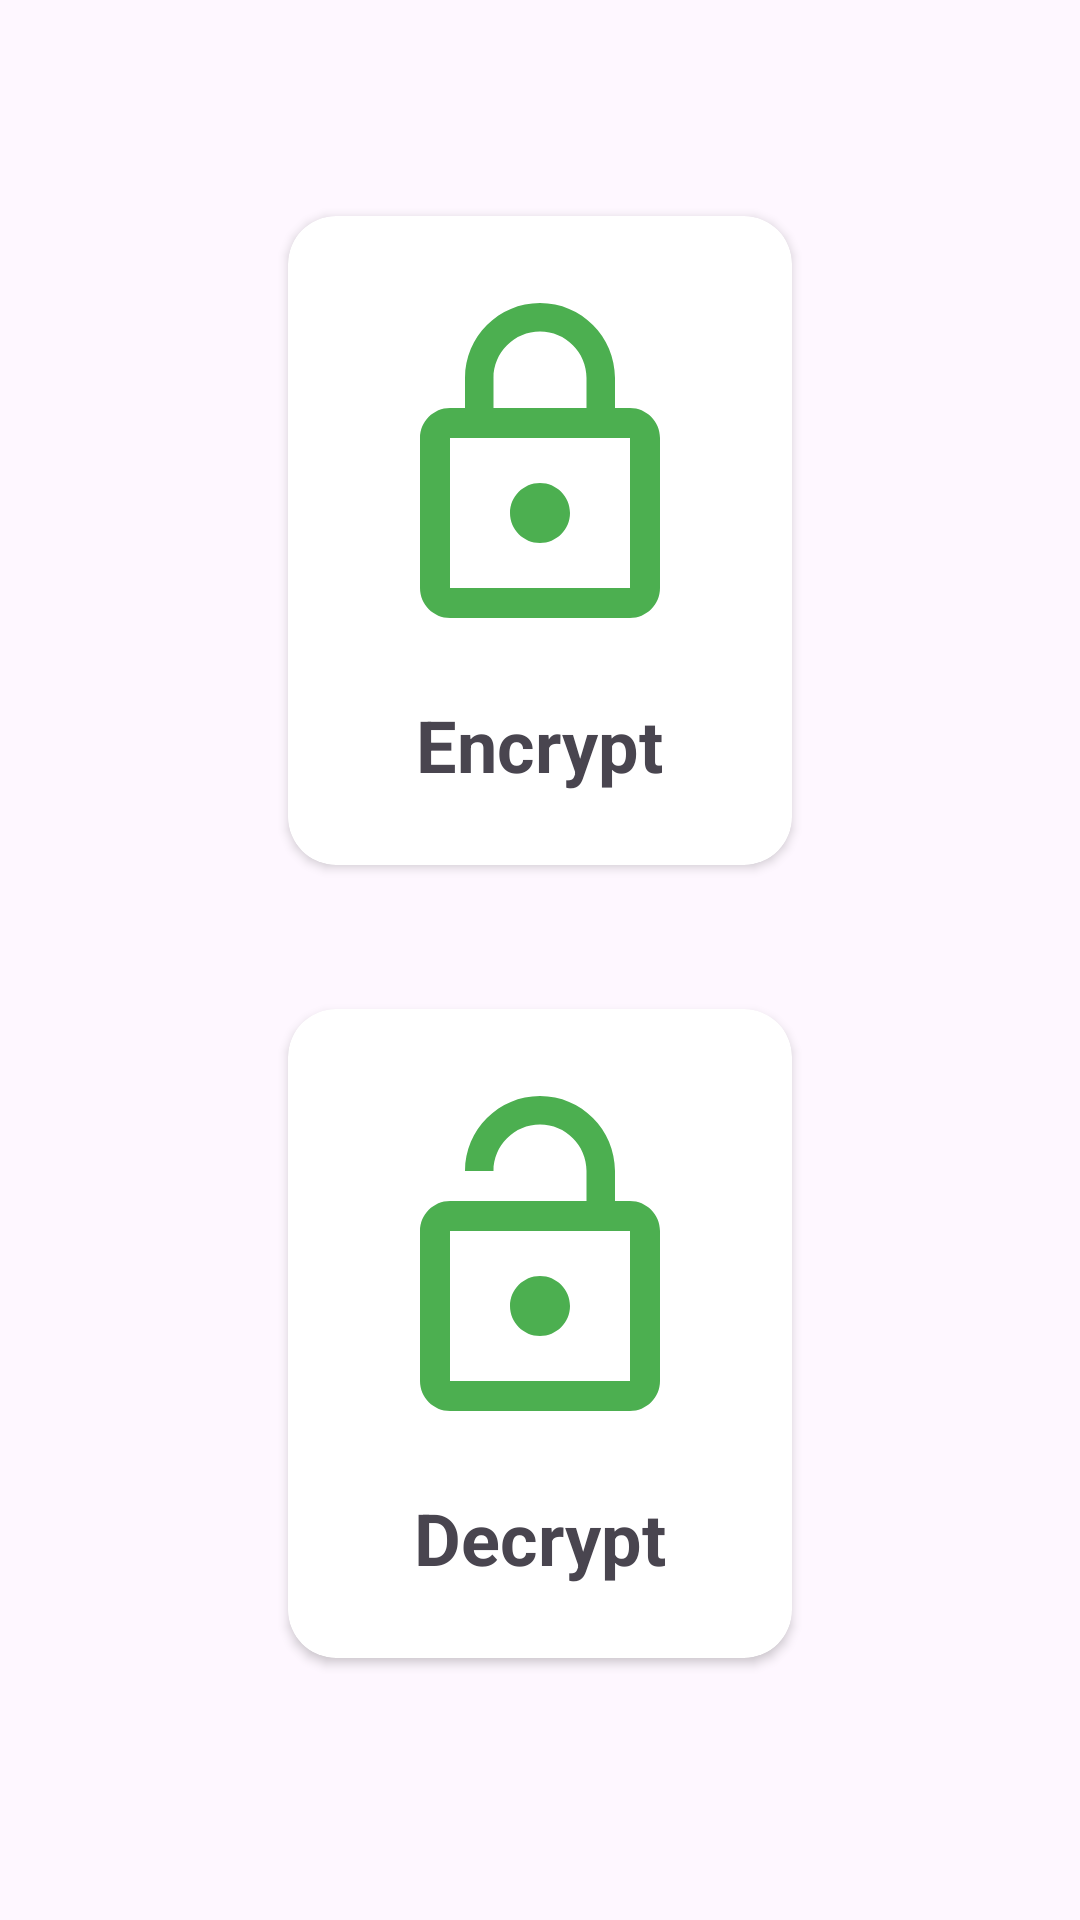

Icon bounding boxes for this 1080x1920 phone screenshot, format [left=x1, top=y1, right=x2, bottom=y2]:
lock: [left=420, top=303, right=660, bottom=618]
lock open: [left=420, top=1096, right=660, bottom=1411]
